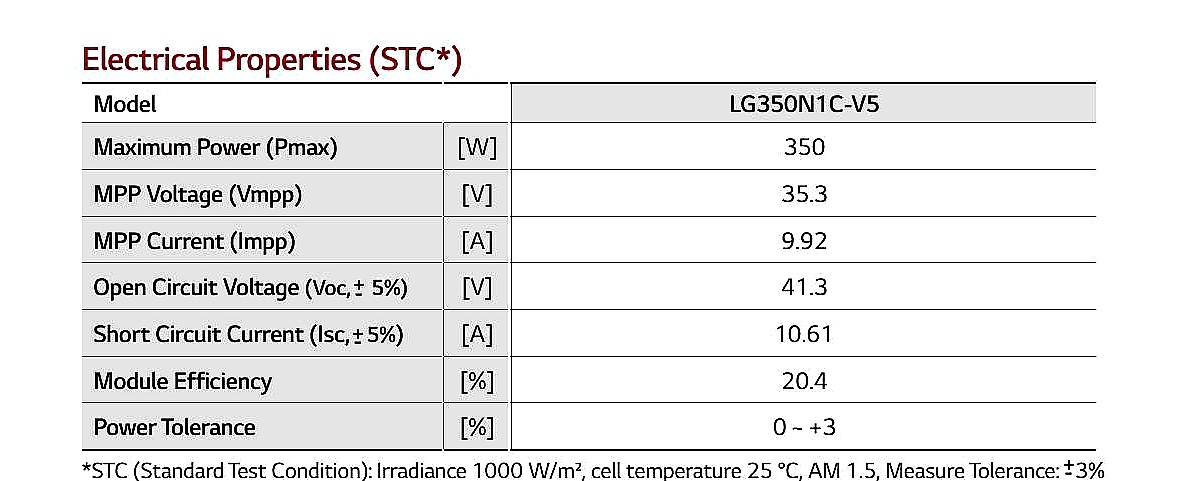table: (61, 31, 1119, 458)
table column: (512, 34, 1106, 447), (74, 37, 447, 451), (450, 35, 510, 449)
table column header: (73, 81, 1104, 119)
table name: (79, 37, 1105, 77)
table row: (74, 311, 1107, 356), (75, 122, 1104, 166), (72, 220, 1106, 263), (74, 38, 1101, 81), (74, 175, 1107, 216), (74, 360, 1107, 401), (72, 407, 1108, 447), (73, 267, 1106, 305), (74, 83, 1103, 120)
table row header: (74, 35, 440, 446), (447, 35, 515, 445)
table spanning cell: (72, 35, 1105, 79), (76, 82, 511, 118)
